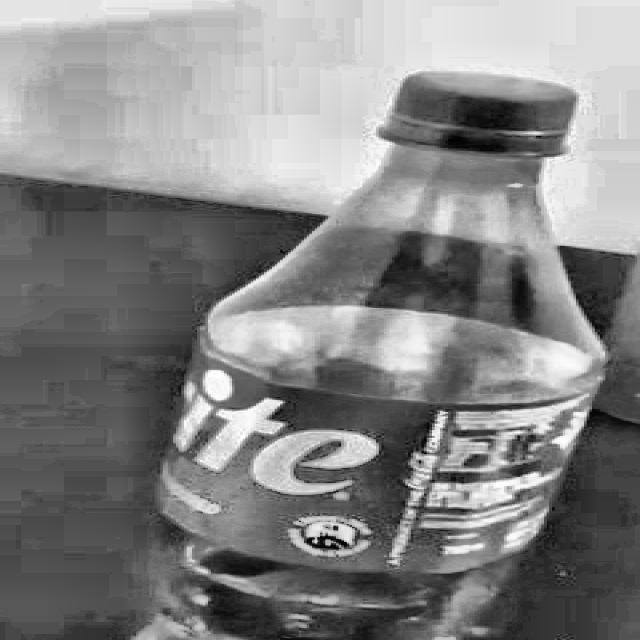bottle: (135, 72, 608, 640)
